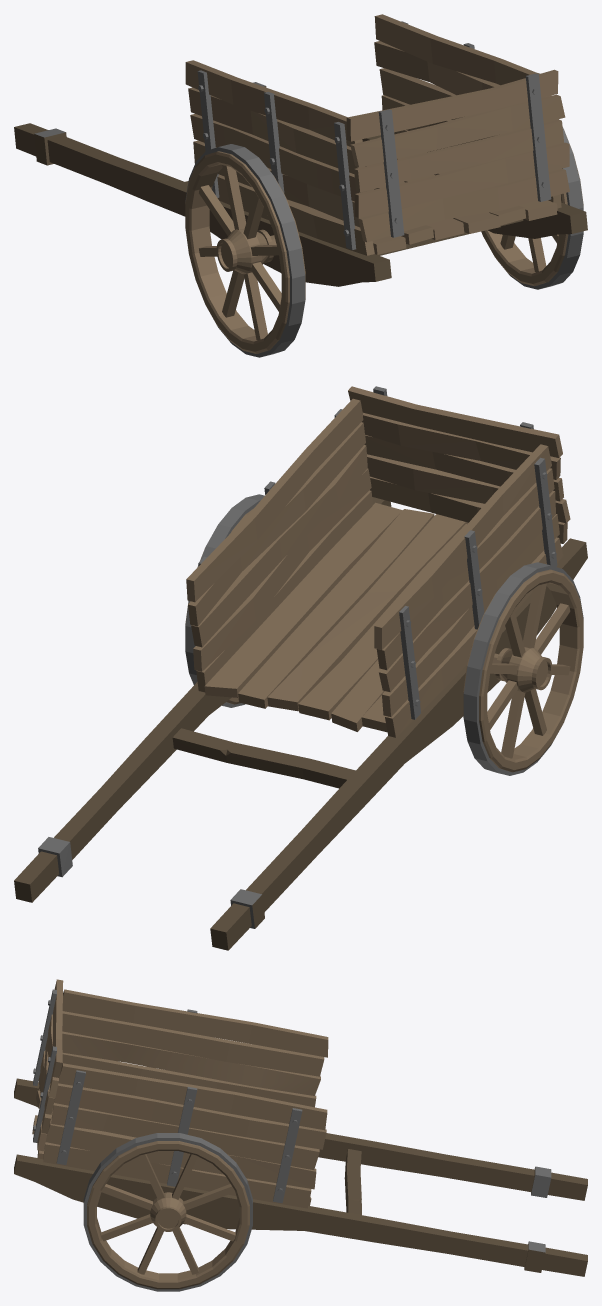
Rendered from cart_a.FBX.
3 renders of one model, top to bottom at view 1: azimuth 30°, elevation 25°; view 2: azimuth 150°, elevation 25°; view 3: azimuth 270°, elevation 25°, orthographic. The views are drawn at different scales.
Parts seen in each view (by area): view 1: cart_a; view 2: cart_a; view 3: cart_a.
Boxes of the visible parts, x1,y1,x2,y2 form: cart_a: [14, 14, 587, 357]; cart_a: [14, 386, 587, 950]; cart_a: [14, 979, 587, 1291].
Size of the model in its own units: 1.78 by 1.46 by 3.49.
